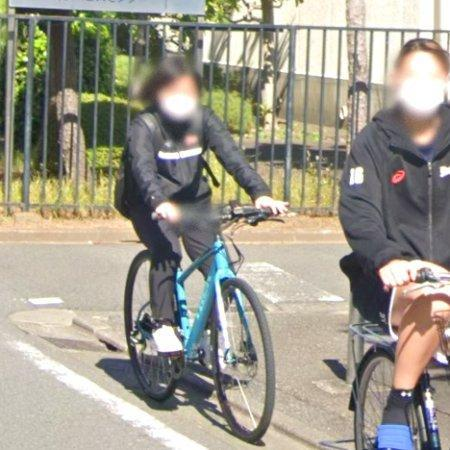bicycles: (124, 203, 275, 444), (351, 325, 397, 450), (397, 375, 443, 450)
